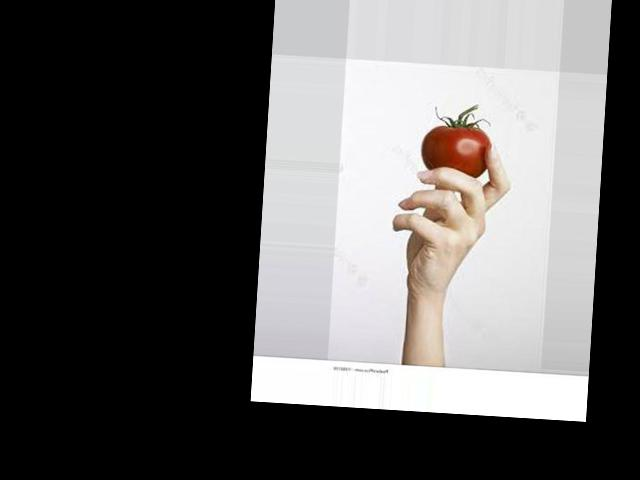tomato: (420, 103, 492, 178)
